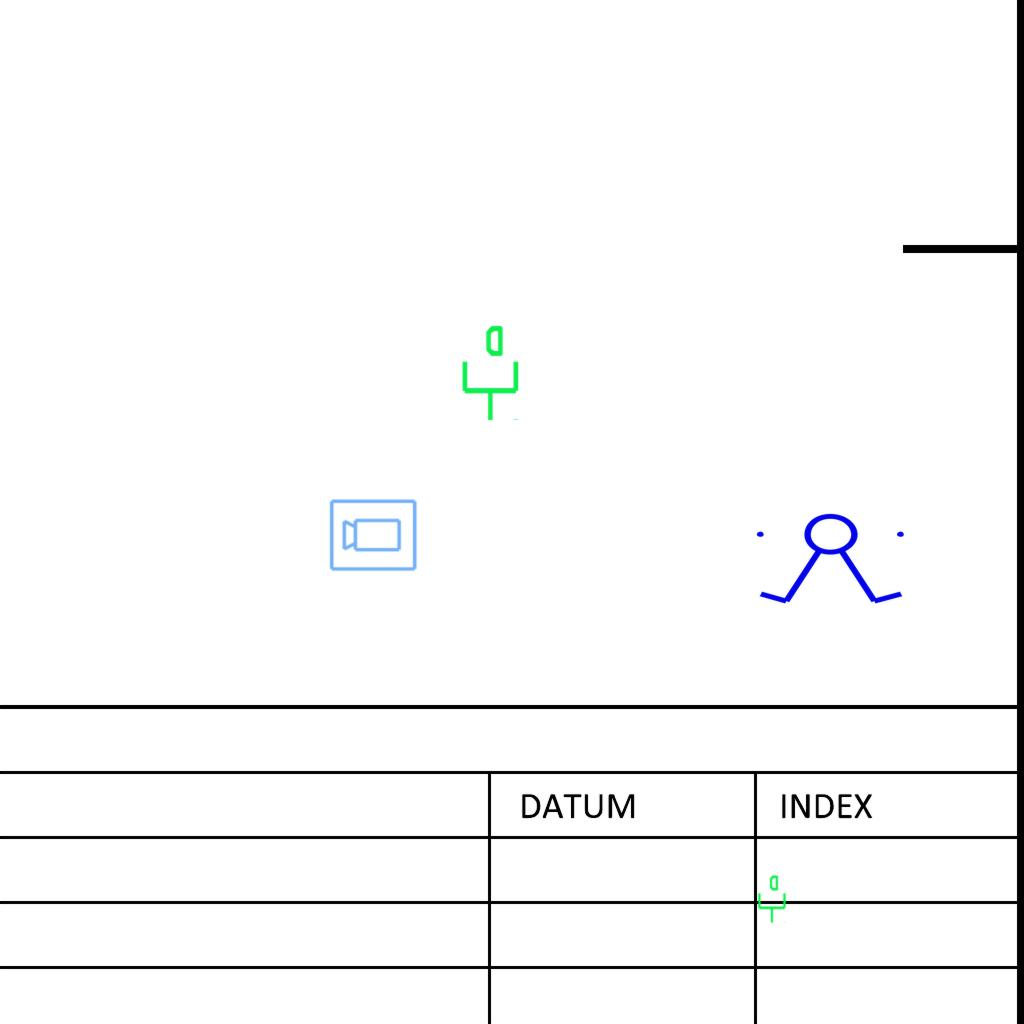Datenanschluss_einfach: (454, 323, 523, 423), (754, 874, 788, 924)
KFO_Kamera_mit_Festobjektiv: (328, 496, 419, 573)
Serienschalter: (748, 512, 916, 608)
